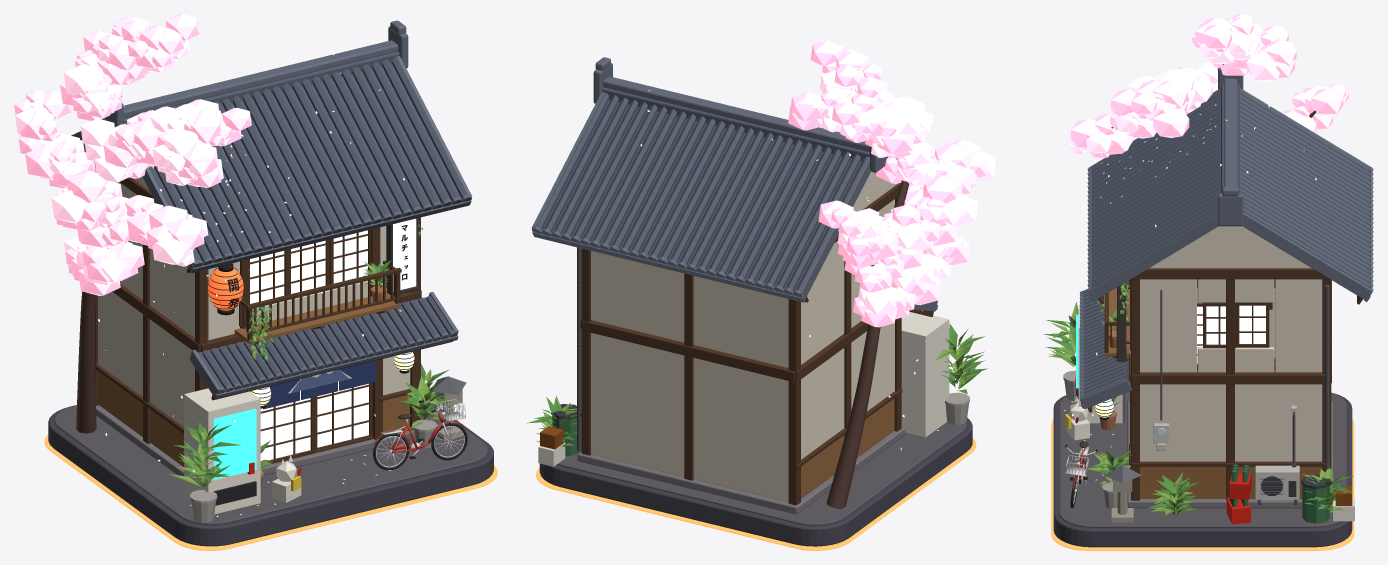
The model's file is izakaya.glb.
3 renders of one model, left to right at view 1: azimuth 30°, elevation 25°; view 2: azimuth 150°, elevation 25°; view 3: azimuth 270°, elevation 25°, orthographic. The views are drawn at different scales.
Parts seen in each view (by area): view 1: BLD_Roof_Front, VEG_Sakura_Blossoms, BLD_Wall_Left, BLD_Hisashi, BASE_Paving, BASE_Slab, PROP_vending_booth, BLD_Door_Shoji, BLD_Roof_Ridge, BLD_Window_Shoji, BLD_Balcony, BLD_Wall_Front_1F (+15 smaller); view 2: BLD_Roof_Back, BLD_Wall_Back, VEG_Sakura_Blossoms, BLD_Wall_Left, BASE_Slab, BASE_Paving, BLD_Roof_Ridge, PROP_vending_booth, BLD_Plinth, VEG_Sakura_Branches, BASE_RimGlow, VEG_Tall_Left (+4 smaller); view 3: BLD_Wall_Right, BLD_Roof_Back, BLD_Roof_Front, VEG_Sakura_Blossoms, BASE_Paving, BASE_Slab, BLD_Gable_R, BLD_Hisashi, BLD_Roof_Ridge, BLD_SideWindow_Shoji, BASE_RimGlow, EXT_AC_Unit (+16 smaller).
Part boxes in pixels (x1,y1,x2,y2): BLD_Roof_Front: [123, 56, 472, 273]; VEG_Sakura_Blossoms: [14, 14, 251, 295]; BLD_Wall_Left: [94, 162, 207, 466]; BLD_Hisashi: [189, 292, 458, 400]; BASE_Paving: [54, 405, 487, 524]; BASE_Slab: [48, 405, 493, 546]; PROP_vending_booth: [184, 388, 260, 514]; BLD_Door_Shoji: [260, 379, 372, 463]; BLD_Roof_Ridge: [105, 20, 408, 126]; BLD_Window_Shoji: [249, 229, 370, 303]; BLD_Balcony: [234, 260, 401, 343]; BLD_Wall_Front_1F: [207, 226, 390, 340]; BLD_Roof_Back: [531, 91, 871, 302]; BLD_Wall_Back: [581, 248, 794, 501]; VEG_Sakura_Blossoms: [788, 40, 996, 327]; BLD_Wall_Left: [788, 183, 902, 505]; BASE_Slab: [539, 418, 972, 546]; BASE_Paving: [557, 422, 966, 525]; BLD_Roof_Ridge: [593, 57, 888, 171]; PROP_vending_booth: [901, 311, 949, 437]; BLD_Plinth: [577, 427, 905, 514]; VEG_Sakura_Branches: [826, 158, 909, 509]; BASE_RimGlow: [536, 438, 976, 550]; VEG_Tall_Left: [935, 323, 987, 424]; BLD_Wall_Right: [1131, 268, 1329, 500]; BLD_Roof_Back: [1240, 88, 1373, 304]; BLD_Roof_Front: [1087, 88, 1220, 304]; VEG_Sakura_Blossoms: [1067, 14, 1348, 158]; BASE_Paving: [1059, 391, 1346, 527]; BASE_Slab: [1053, 392, 1352, 547]; BLD_Gable_R: [1149, 226, 1311, 268]; BLD_Hisashi: [1079, 280, 1131, 412]; BLD_Roof_Ridge: [1218, 64, 1243, 226]; BLD_SideWindow_Shoji: [1203, 302, 1269, 348]; BASE_RimGlow: [1051, 419, 1354, 550]; EXT_AC_Unit: [1255, 405, 1299, 504].
Bounding box in the file's own units: 7.28 × 8.37 × 5.99.
